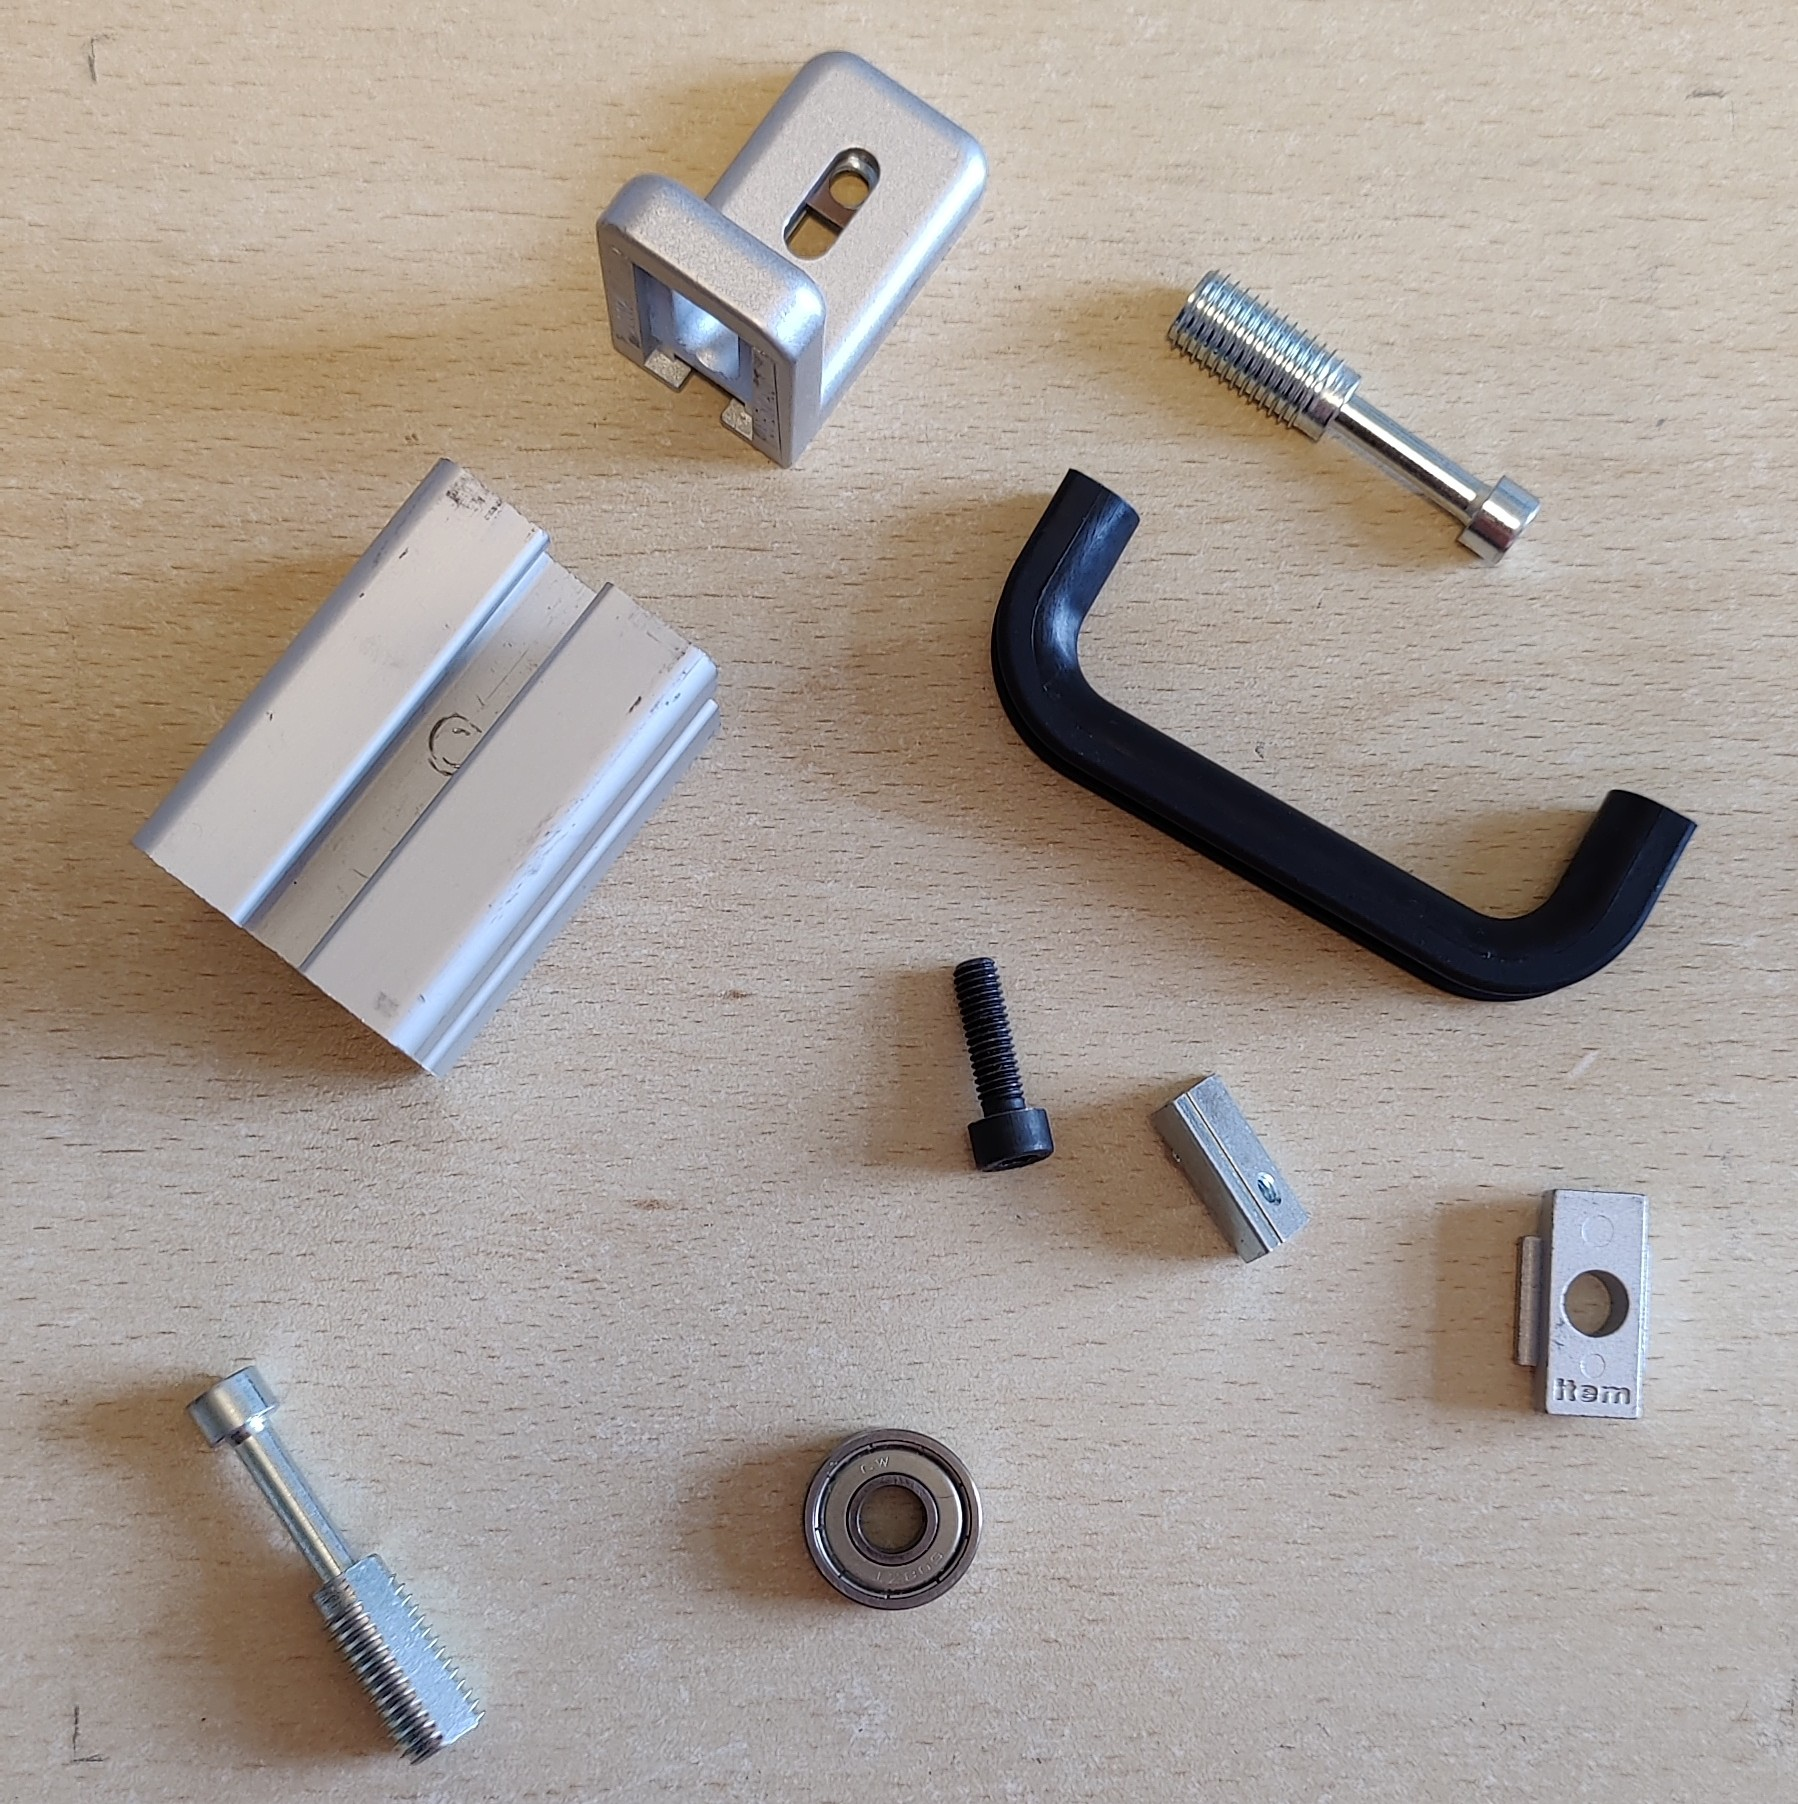Aluminium Extension: (123, 453, 728, 1085)
Ball Bearing: (800, 1425, 981, 1615)
Multiwinkel: (593, 48, 991, 476)
Pull Handle: (986, 464, 1699, 1006)
Shoulder Socket Head Cap Screw: (181, 1365, 487, 1769), (1161, 263, 1548, 571)
Socket Head Cap Screw: (948, 953, 1055, 1177)
T Nut Square: (1510, 1187, 1651, 1422)
T Spring Nut: (1144, 1072, 1309, 1264)
